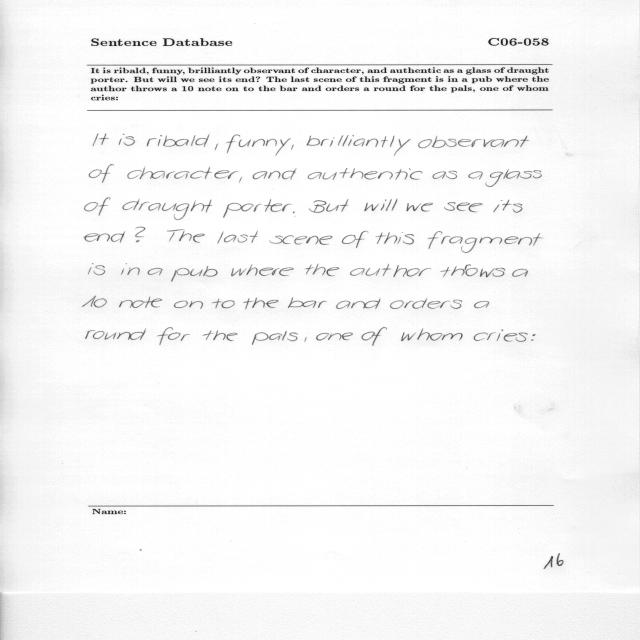word: (428, 231, 543, 253), (307, 135, 411, 156), (123, 199, 213, 220), (418, 136, 529, 149), (127, 167, 238, 180), (308, 168, 422, 180), (226, 135, 291, 156), (223, 199, 292, 218), (350, 264, 431, 277), (485, 169, 542, 187), (440, 265, 505, 278), (147, 134, 210, 147), (401, 329, 463, 342), (390, 298, 462, 309), (231, 264, 294, 276), (171, 266, 218, 282), (86, 328, 146, 340), (474, 329, 528, 342), (252, 331, 298, 345), (269, 235, 333, 245), (217, 230, 258, 244), (157, 328, 190, 345), (309, 199, 349, 213), (252, 168, 297, 180), (167, 229, 205, 243), (119, 296, 162, 308), (336, 298, 381, 309), (84, 231, 125, 243), (85, 198, 111, 216), (375, 232, 414, 244), (243, 297, 279, 310), (361, 328, 387, 346), (89, 165, 114, 183), (342, 231, 368, 248), (365, 199, 398, 212), (288, 297, 327, 308), (305, 264, 340, 276), (494, 199, 523, 213), (444, 203, 483, 213), (203, 331, 238, 341), (82, 296, 107, 308), (316, 333, 353, 341), (406, 203, 433, 212), (174, 301, 203, 309), (212, 299, 235, 309), (121, 264, 140, 275), (433, 171, 458, 179), (93, 134, 109, 146), (119, 134, 135, 146), (89, 264, 106, 275), (135, 227, 145, 242), (468, 171, 483, 180), (512, 269, 528, 277), (148, 268, 163, 276), (474, 301, 489, 308), (531, 334, 536, 341), (215, 144, 218, 151), (239, 177, 242, 183), (291, 145, 294, 150), (305, 337, 307, 342), (293, 212, 295, 214)
